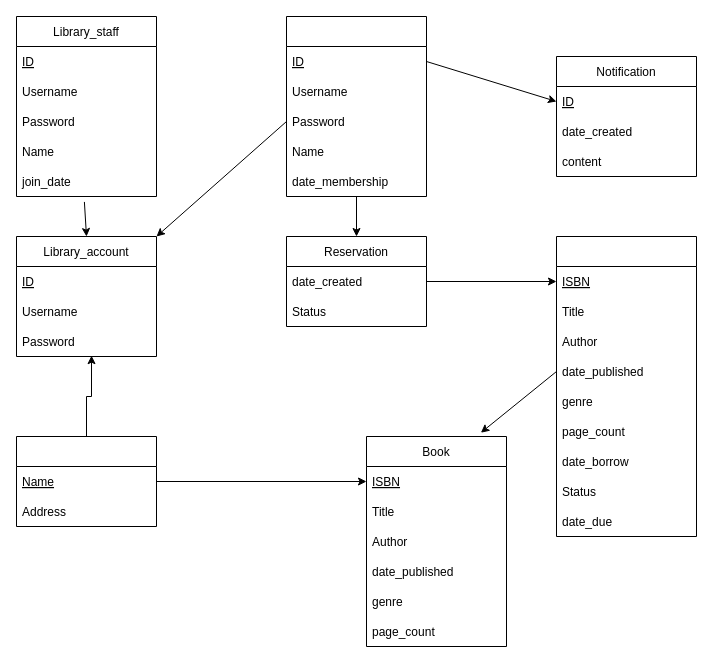
Some shapes in this 713 by 663 pixel diagram are drawn without their labels. Each missing label, with the box of its shape:
Book_Item: (556, 236, 696, 536)
Library: (16, 436, 156, 526)
Library_member: (286, 16, 426, 196)
